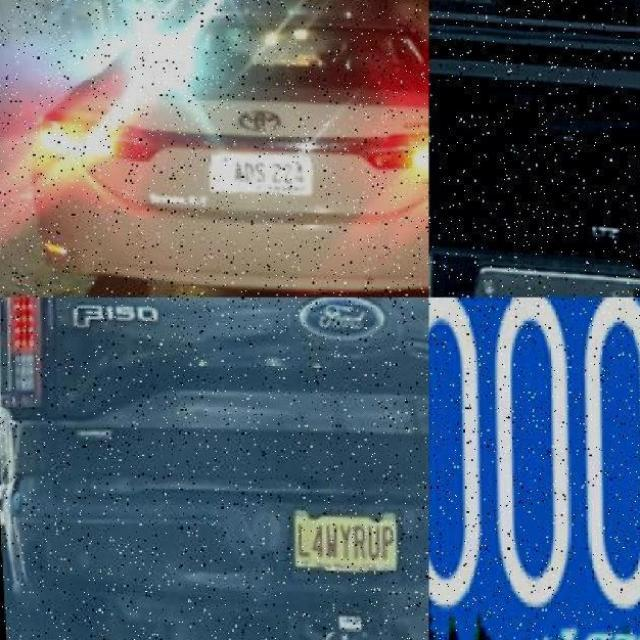license-plate: (432, 300, 640, 640), (301, 507, 408, 572), (219, 150, 315, 190), (486, 280, 640, 284)
